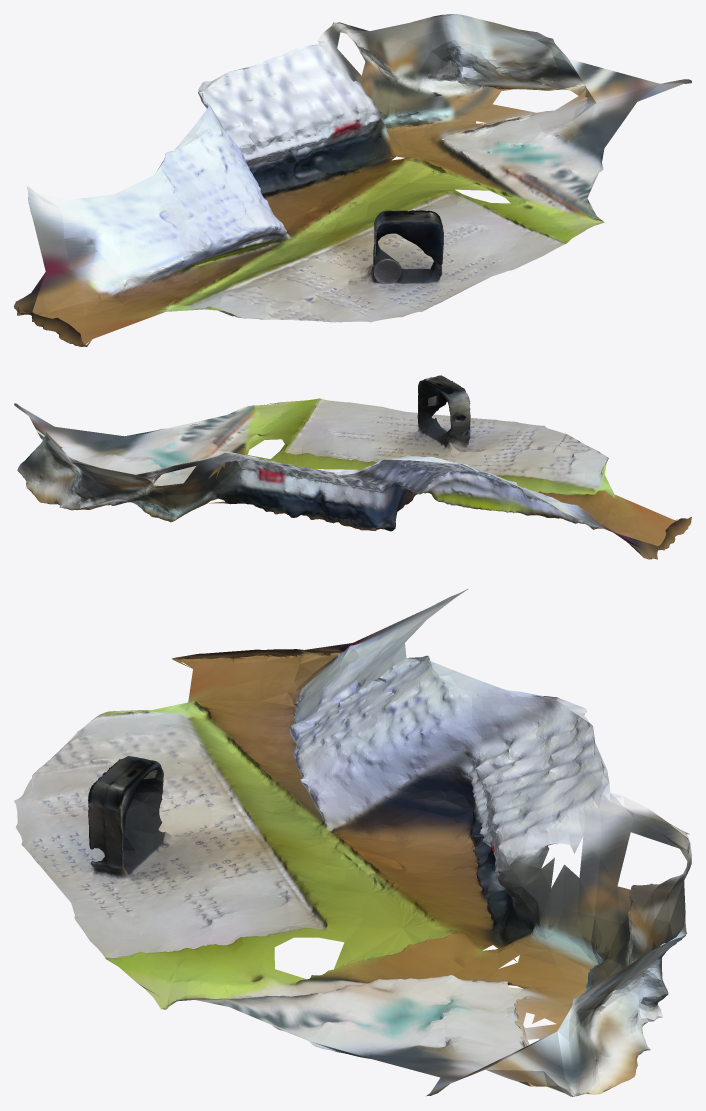
Rendered from Scaniverse_2026_05_10_120446.obj.
3 renders of one model, top to bottom at view 1: azimuth 30°, elevation 25°; view 2: azimuth 150°, elevation 25°; view 3: azimuth 270°, elevation 25°, orthographic. The views are drawn at different scales.
Visible parts, largest first — view 1: mesh; view 2: mesh; view 3: mesh.
Part boxes in pixels (<box>): mesh: <box>14,14,691,346</box>; mesh: <box>14,375,691,559</box>; mesh: <box>14,588,691,1096</box>.
Size of the model in its own units: 0.6876 by 0.0959 by 0.4032.
1 material, 1 textured.
